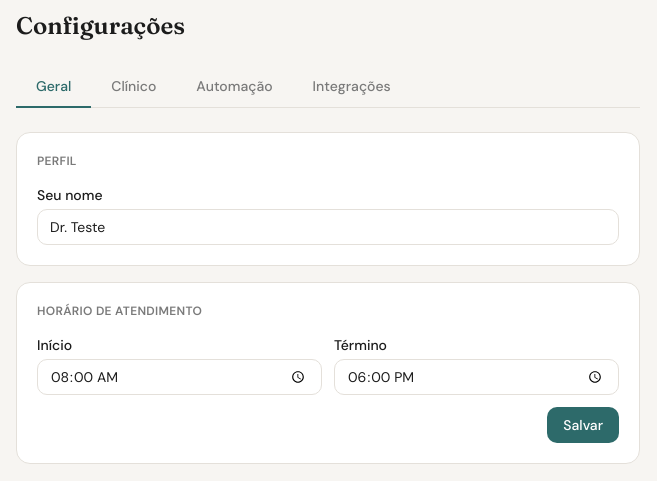
Test: ConfiguracoesPage — Google Calendar section › renders Google Calendar section heading
The width and height of the screenshot is (657, 481).
Click the button "Integrações" at (352, 87), box [293,66,411,108]
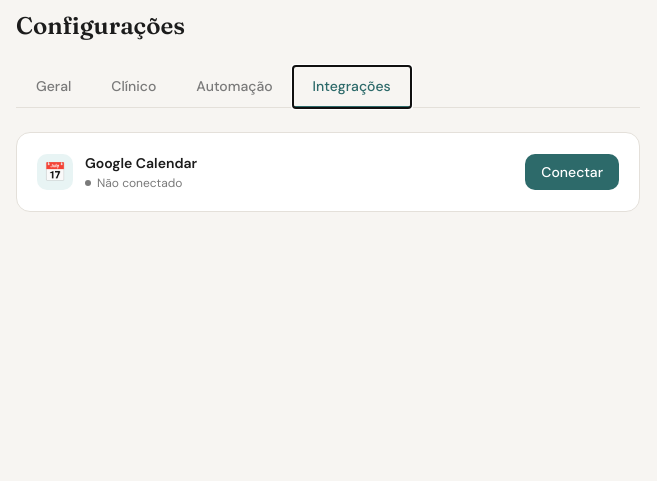
Result: the text "Google Calendar" is shown at [85,153,197,173]
